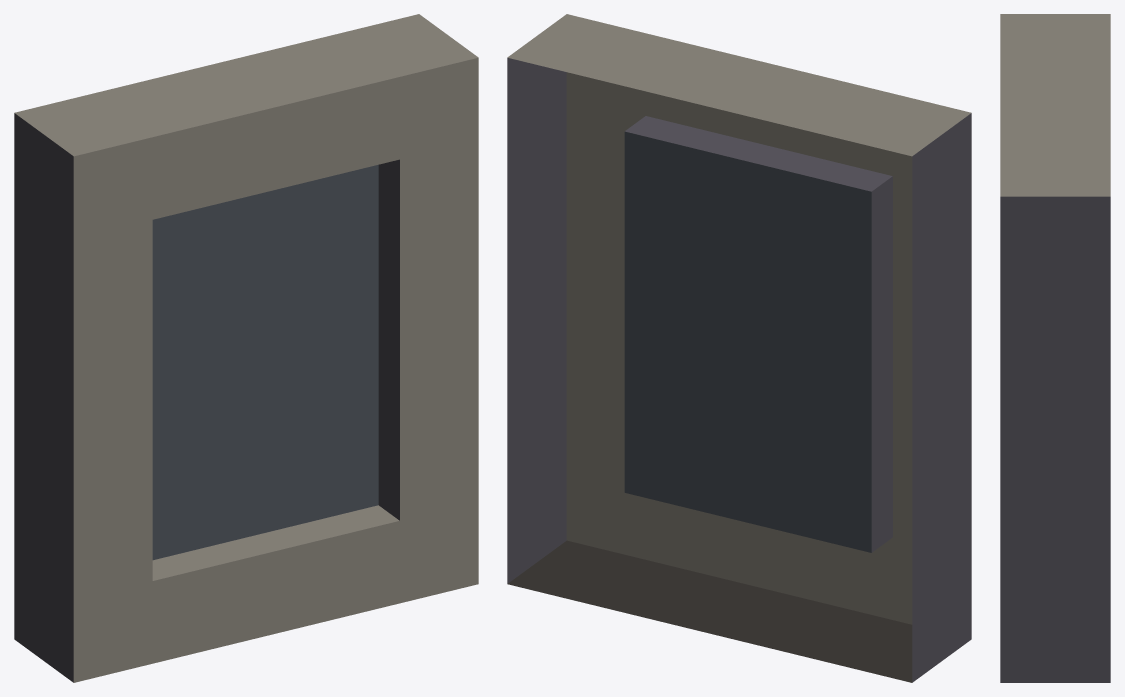
Rendered from TB_D_Bd_Window_Sqr_C.FBX.
3 views of the same model, side by side, from view 1: azimuth 30°, elevation 25°; view 2: azimuth 150°, elevation 25°; view 3: azimuth 270°, elevation 25° (orthographic). The views are drawn at different scales.
Visible parts, largest first — view 1: TB_D_Bd_Window_Sqr_C; view 2: TB_D_Bd_Window_Sqr_C; view 3: TB_D_Bd_Window_Sqr_C.
Boxes of the visible parts, x1=… form: TB_D_Bd_Window_Sqr_C: x1=14, y1=14, x2=478, y2=682; TB_D_Bd_Window_Sqr_C: x1=507, y1=14, x2=971, y2=682; TB_D_Bd_Window_Sqr_C: x1=1000, y1=14, x2=1110, y2=682.
Size of the model in its own units: 0.8196 by 1.02 by 0.209.
